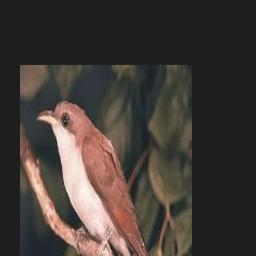Cuckoo: (36, 100, 158, 256)
